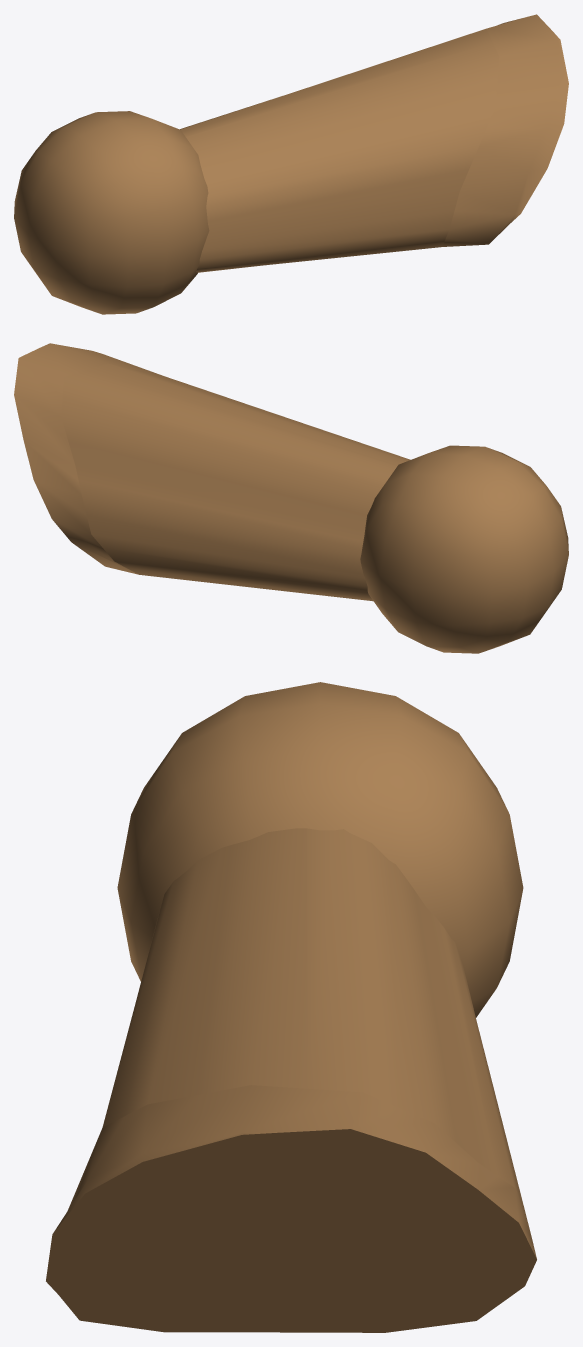
Rendered from Frinchfry_RUpperArm.fbx.
The picture shows the model from 3 angles, top to bottom: view 1: azimuth 30°, elevation 25°; view 2: azimuth 150°, elevation 25°; view 3: azimuth 270°, elevation 25°; orthographic projection. The views are drawn at different scales.
Visible parts, largest first — view 1: RArmUpper; view 2: RArmUpper; view 3: RArmUpper.
Part boxes in pixels (box(x1,y1,x2,y2)): RArmUpper: box(14, 14, 568, 314); RArmUpper: box(14, 343, 568, 653); RArmUpper: box(46, 682, 536, 1332).
Bounding box in the file's own units: 72.95 × 24.85 × 30.07.
